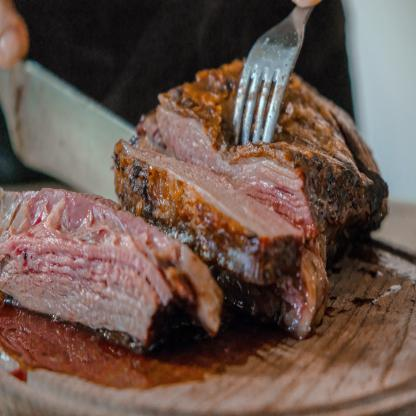Carne: (0, 171, 193, 346), (110, 140, 301, 289), (247, 90, 398, 228), (134, 56, 228, 158)
